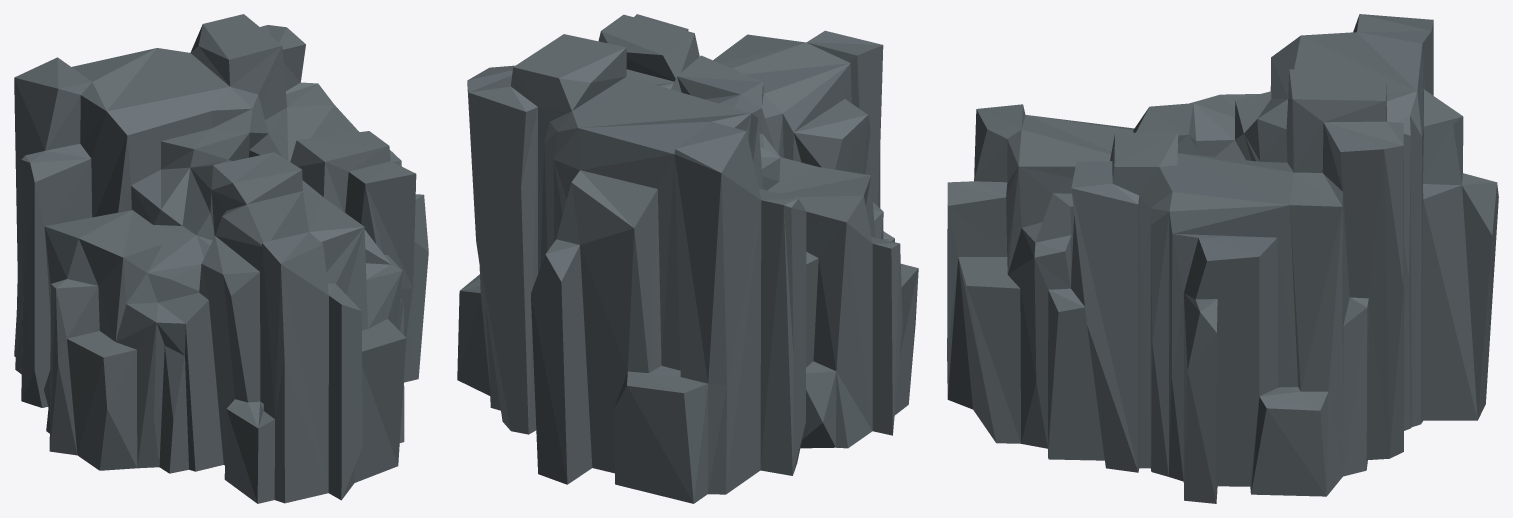
File: Rock_Big_3_LOD1.fbx
3 views of the same model, side by side, from view 1: azimuth 30°, elevation 25°; view 2: azimuth 150°, elevation 25°; view 3: azimuth 270°, elevation 25° (orthographic). The views are drawn at different scales.
Parts seen in each view (by area): view 1: polySurface10335; view 2: polySurface10335; view 3: polySurface10335.
Part boxes in pixels (left/top/right/bottom): polySurface10335: left=14, top=14, right=428, bottom=503; polySurface10335: left=457, top=14, right=918, bottom=503; polySurface10335: left=947, top=14, right=1498, bottom=503.
Size of the model in its own units: 1280 by 1069 by 1507.
